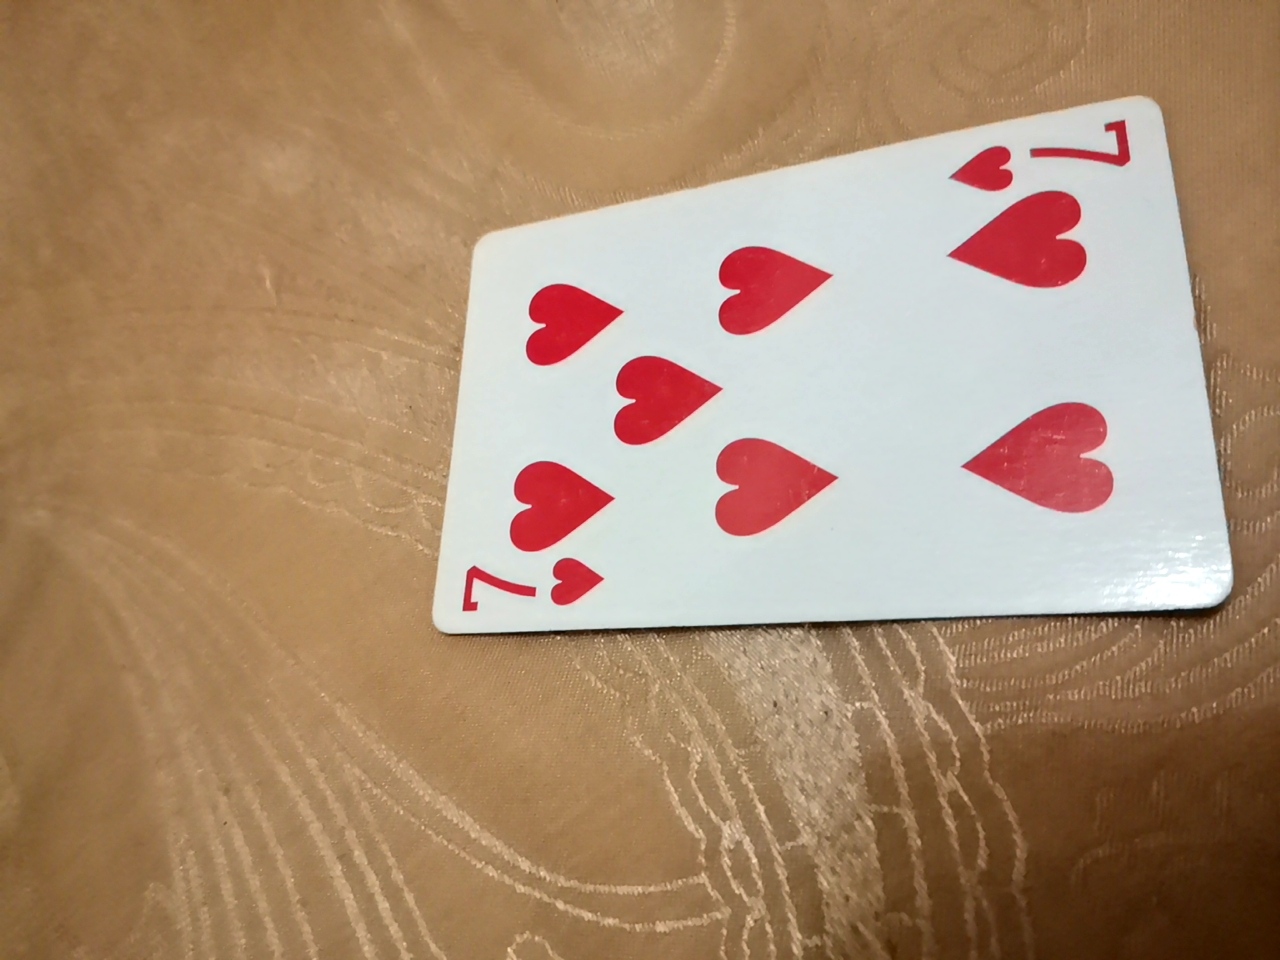hx 7: (437, 128, 1223, 646)
